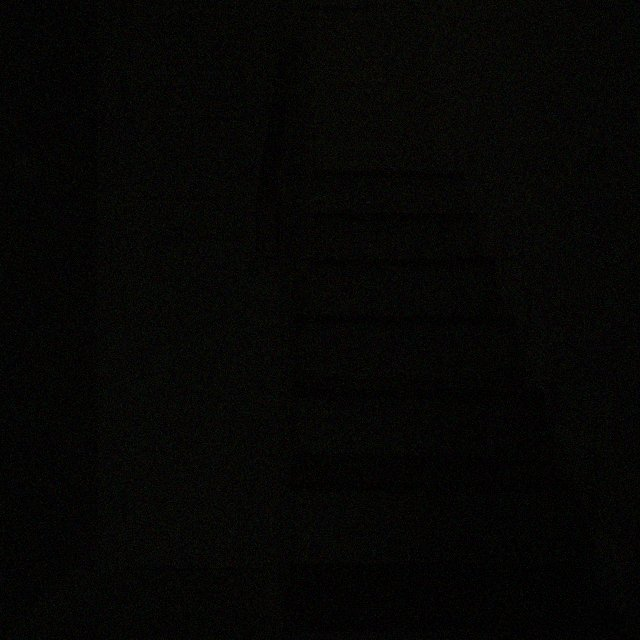stair: (285, 171, 627, 639)
